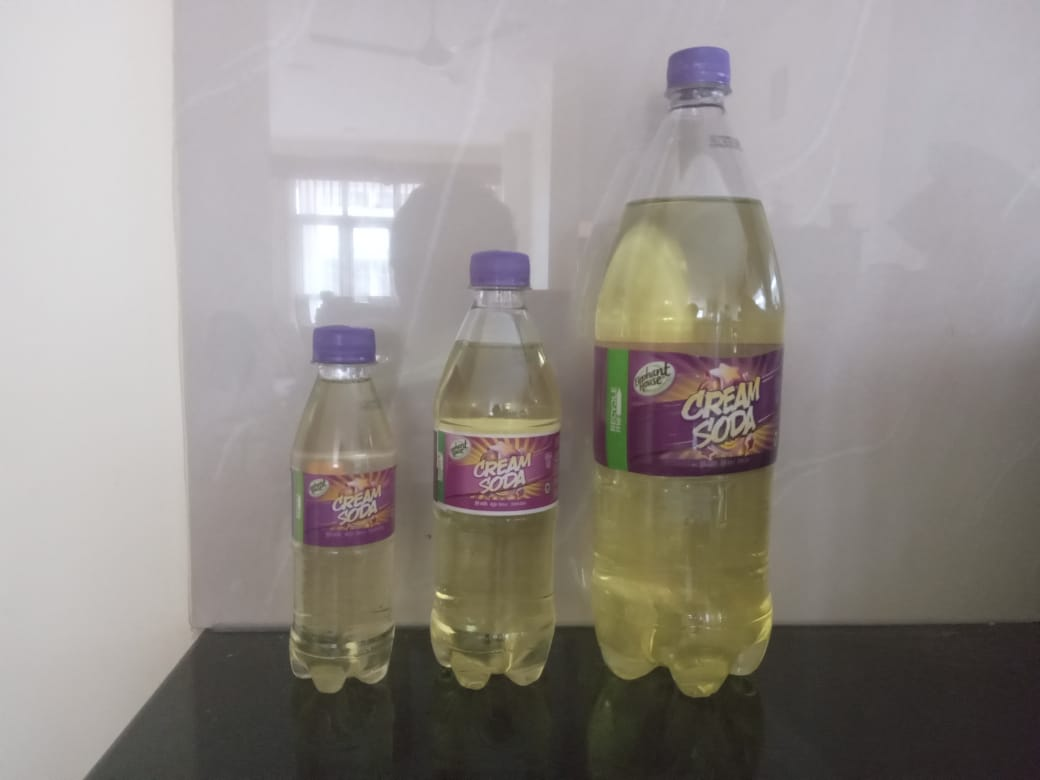L: (589, 43, 790, 711)
S: (425, 246, 561, 701)
Xs: (280, 324, 402, 702)
